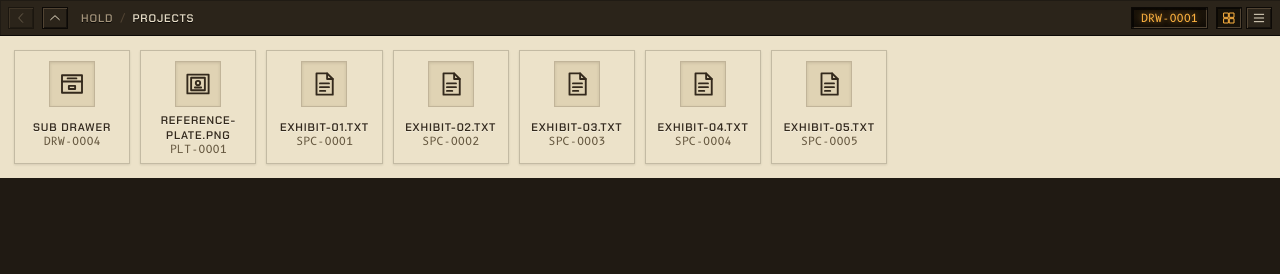
Scenario: AP-1 · breadcrumb + back/up navigation › back returns through history; up climbs one drawer; both disable at their ends
Expected: the button named "Back — previous drawer" is disabled, [8,6,34,28]
Expected: the button named "Up one drawer" is enabled, [42,6,68,28]
Double-click the option "Sub Drawer DRW-0004" at (72, 107), box [14,50,130,164]
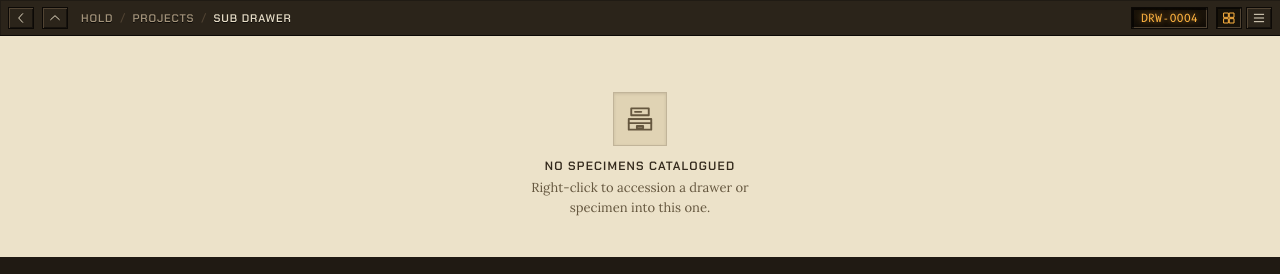
Now the button named "Back — previous drawer" is enabled, box [8,6,34,28]
Click the button named "Up one drawer" at (55, 18), box [42,6,68,28]
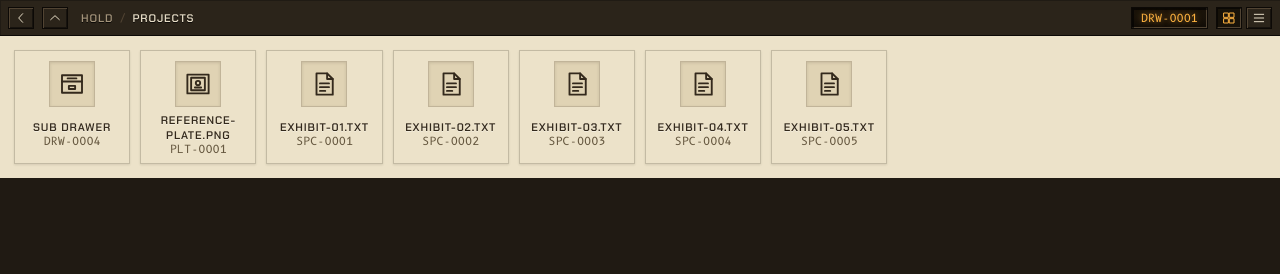
Click the button named "Back — previous drawer" at (21, 18), box [8,6,34,28]
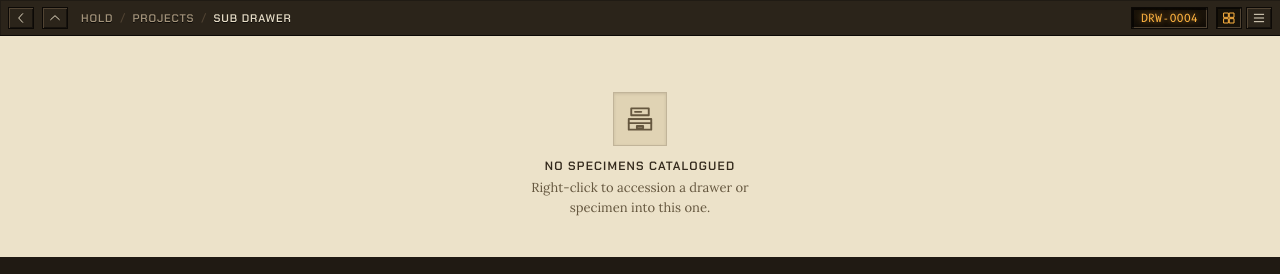
Click the button "Hold" at (97, 18), box [76,8,118,26]
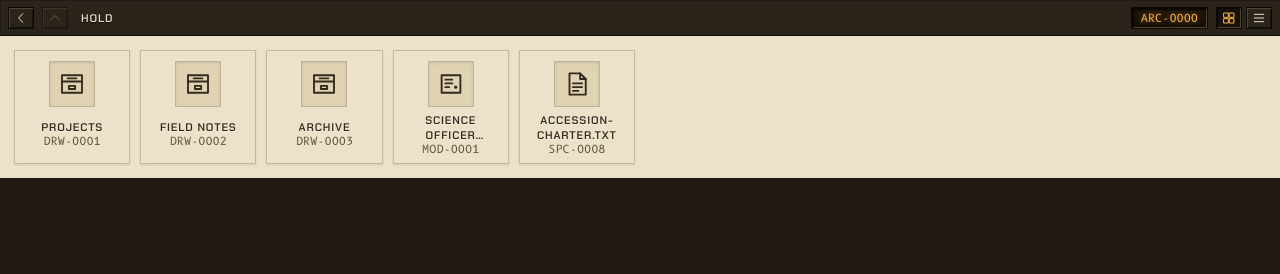
Now the button named "Up one drawer" is disabled, box [42,6,68,28]
